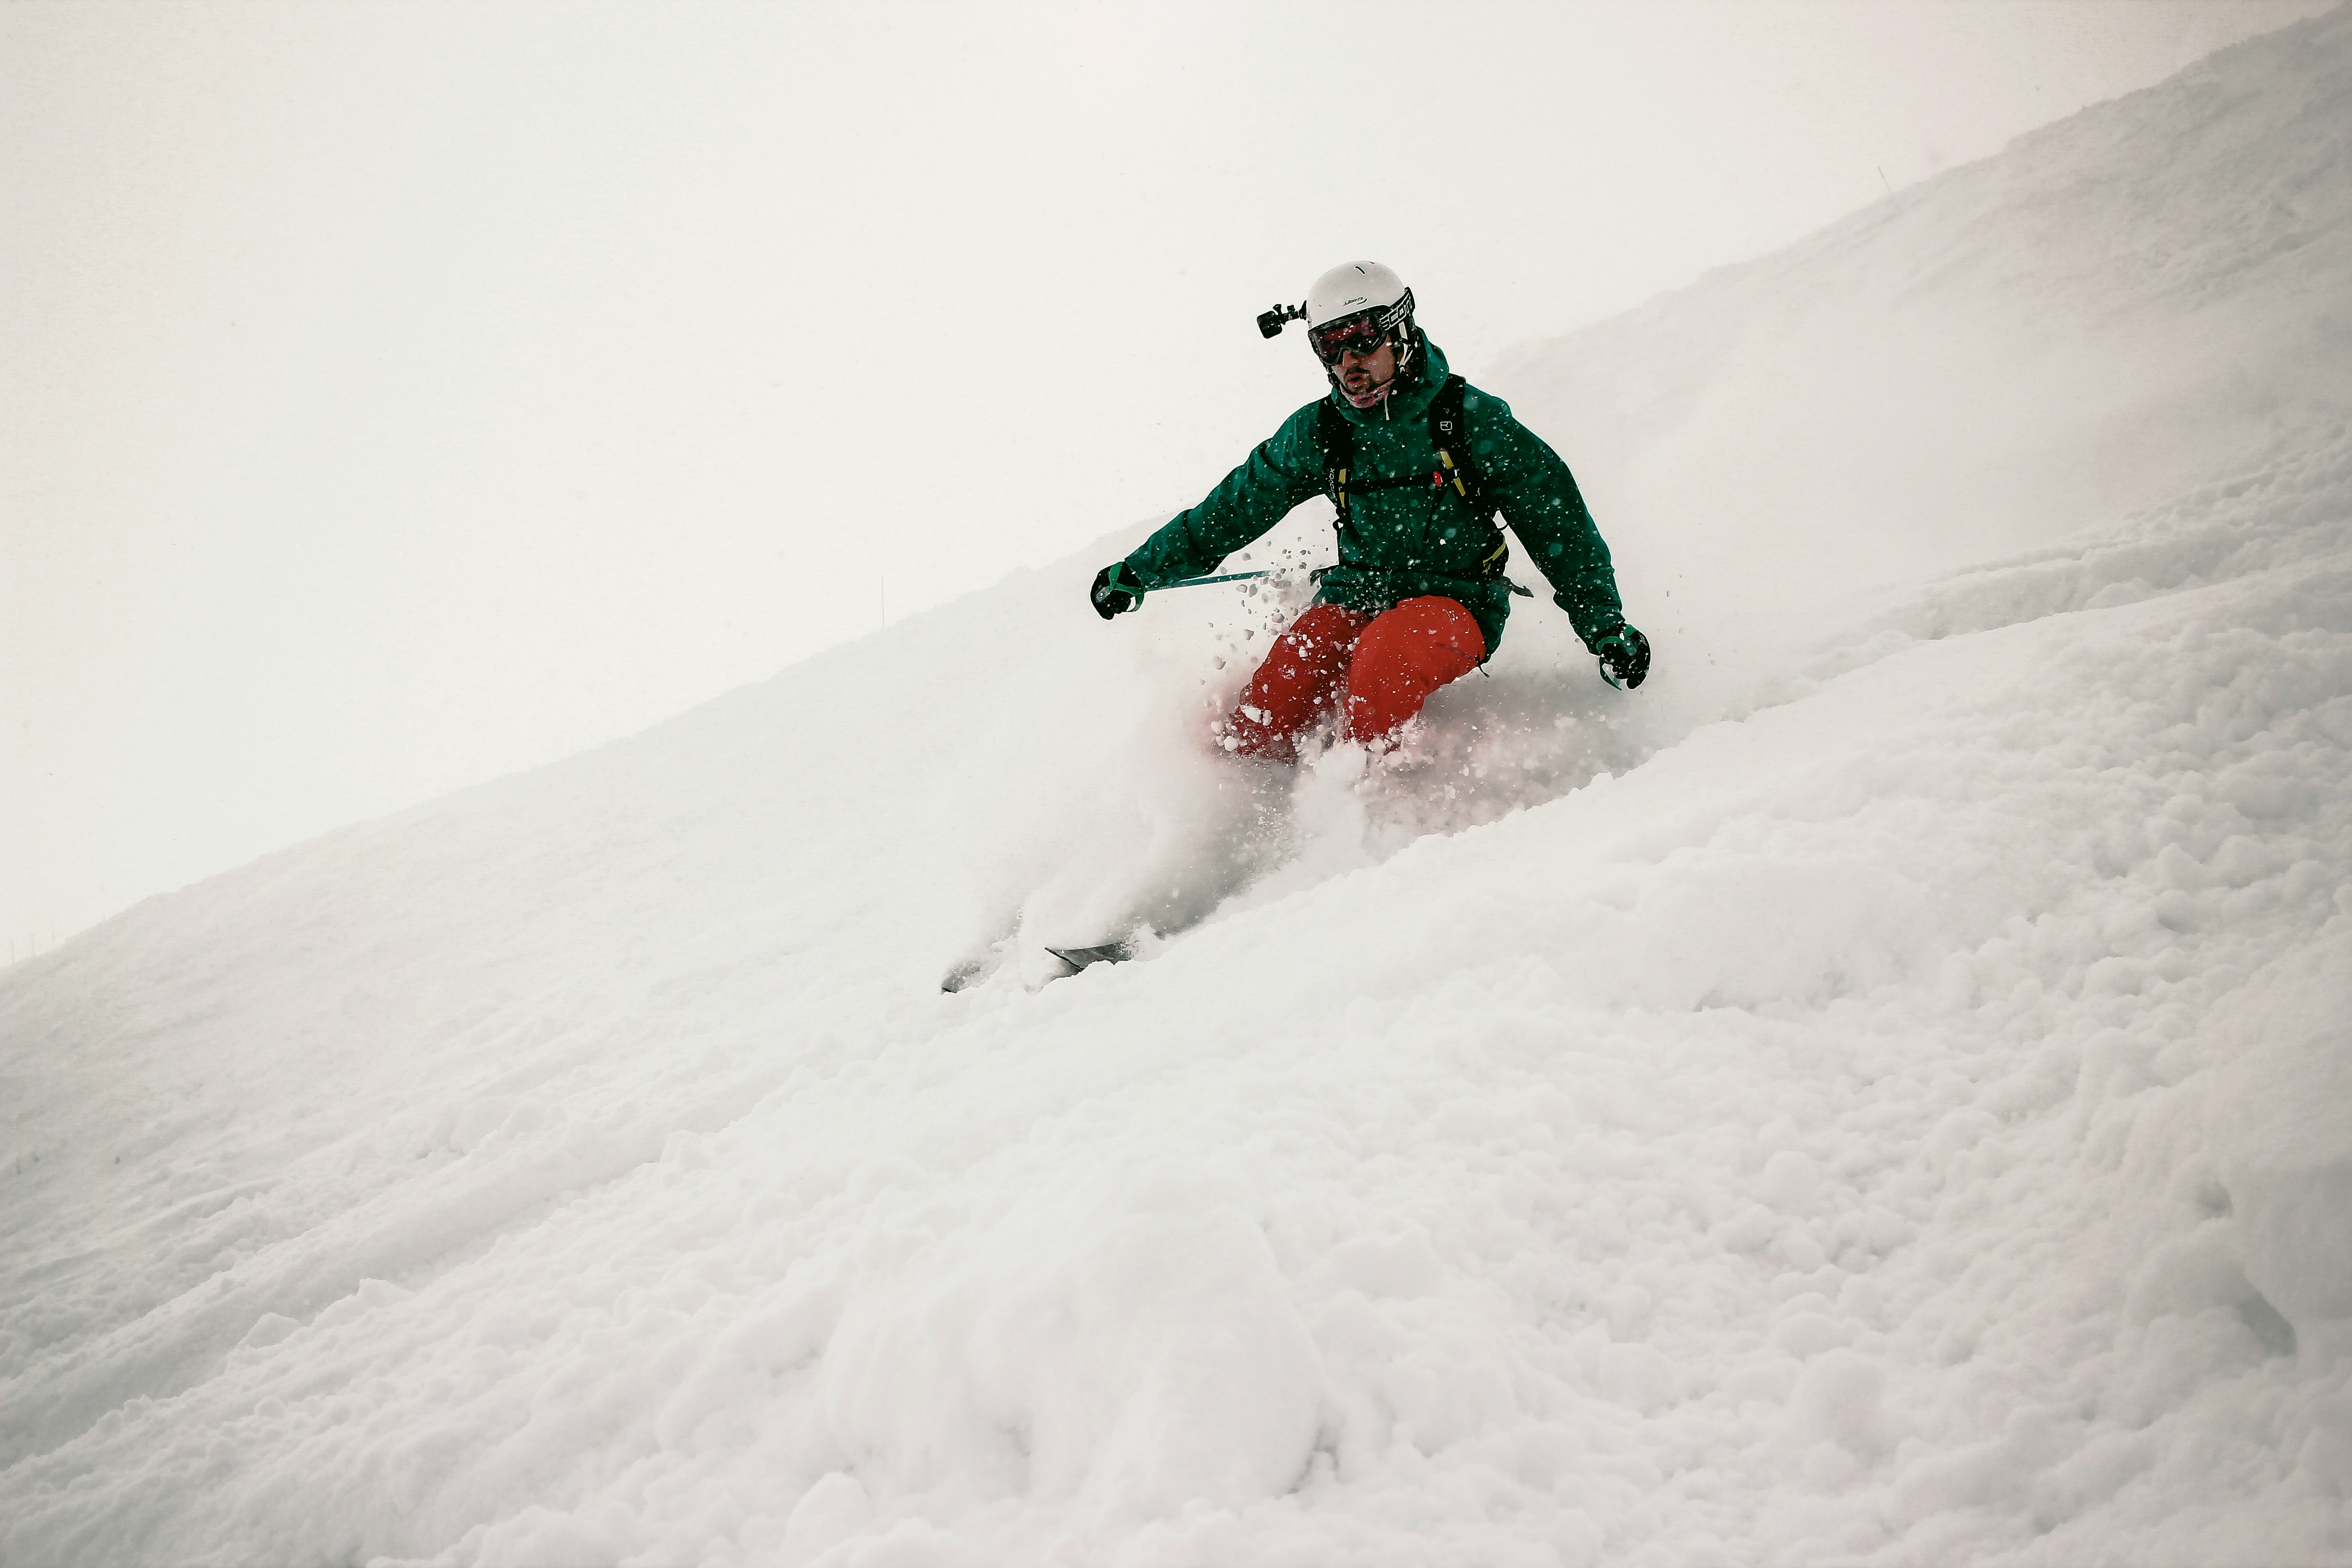skier: (942, 255, 1654, 1001)
